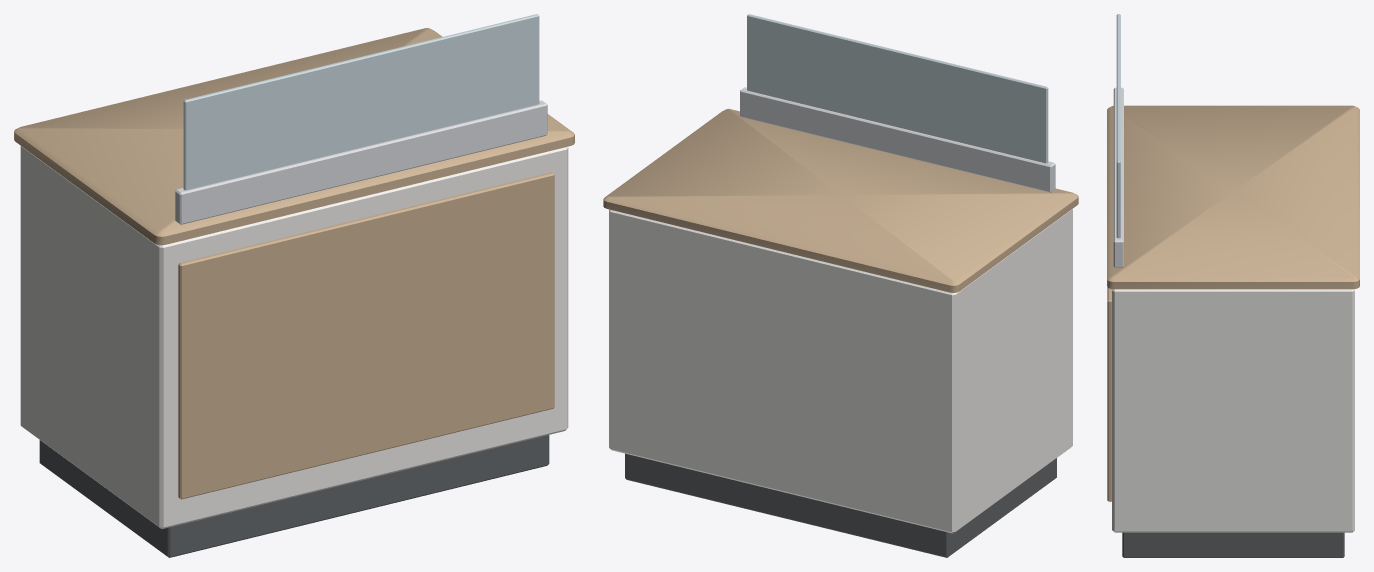
File: SM_Retail_25310_CashDesk120.fbx
3 renders of one model, left to right at view 1: azimuth 30°, elevation 25°; view 2: azimuth 150°, elevation 25°; view 3: azimuth 270°, elevation 25°, orthographic. The views are drawn at different scales.
Visible parts, largest first — view 1: SM_Retail_25310_CashDesk120; view 2: SM_Retail_25310_CashDesk120; view 3: SM_Retail_25310_CashDesk120.
Boxes of the visible parts, x1,y1,x2,y2 form: SM_Retail_25310_CashDesk120: (14,14,574,557); SM_Retail_25310_CashDesk120: (603,14,1078,557); SM_Retail_25310_CashDesk120: (1107,14,1359,557).
Bounding box in the file's own units: 123 × 75.01 × 128.
